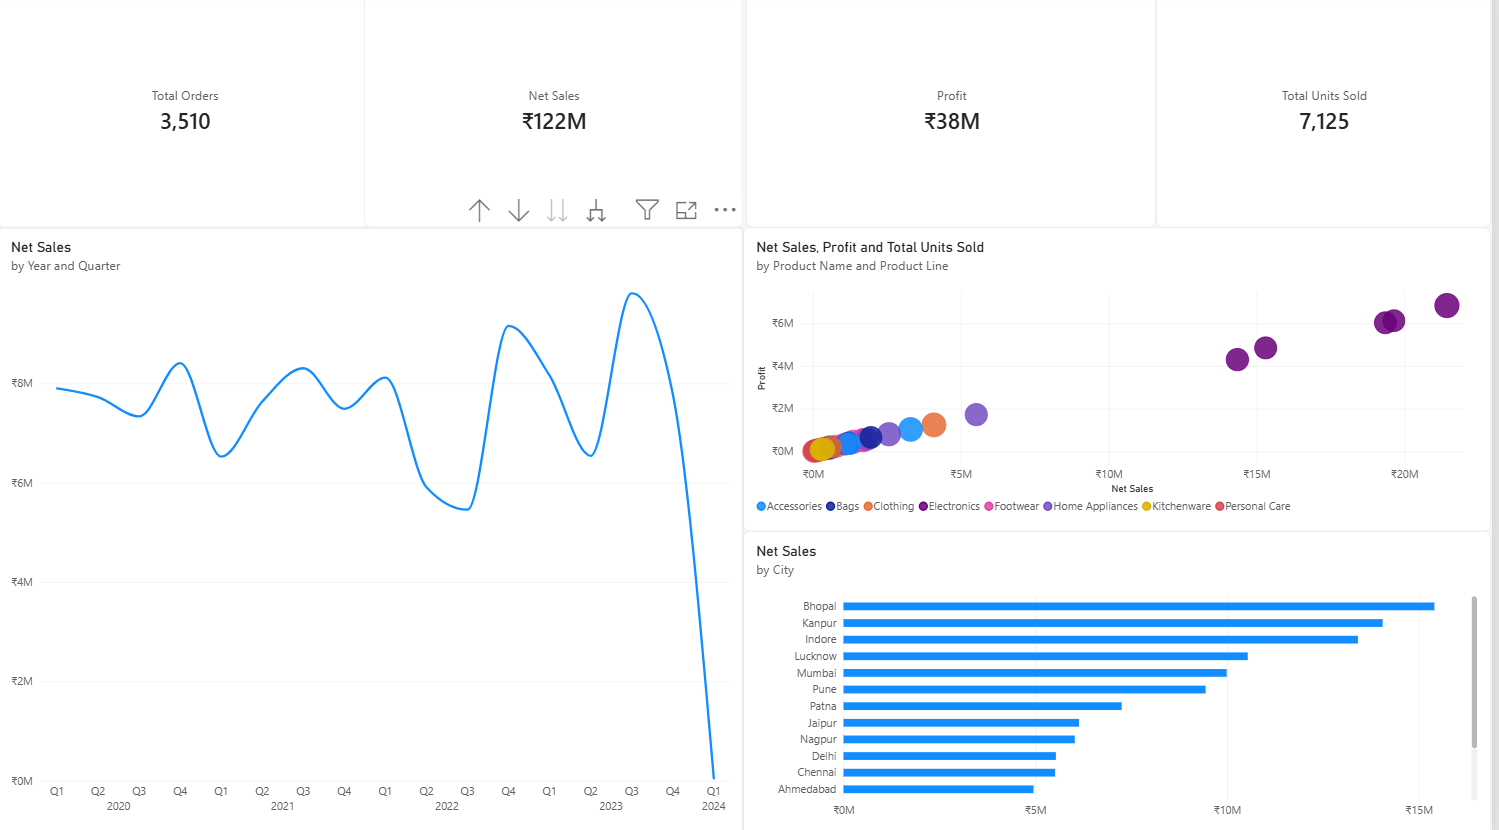

The dashboard page shown, as its layout file describes it:
{"tool":"powerbi","page":{"name":"Executive Overview","canvas":[1920,1080],"ordinal":0},"visuals":[{"type":"cardVisual","fields":{"Data":["_Measures.Total Orders"]},"box":[0,0,479.2,300.8],"z":3},{"type":"cardVisual","fields":{"Data":["_Measures.Total Units Sold"]},"box":[1488.6,0,430.8,300.8],"z":4},{"type":"cardVisual","fields":{"Data":["_Measures.Net Sales"]},"box":[471.5,0,486.8,300.8],"z":5},{"type":"cardVisual","fields":{"Data":["_Measures.Profit"]},"box":[960.9,0,527.6,300.8],"z":6},{"type":"lineChart","fields":{"Category":["DimDate.Year","DimDate.Quarter","DimDate.Month","DimDate.Day"],"Y":["_Measures.Net Sales"]},"box":[0,300.8,958.4,780],"z":7},{"type":"scatterChart","fields":{"Category":["Dim Product.Product Name"],"Series":["Dim Product.Product Line"],"Size":["_Measures.Total Units Sold"],"X":["_Measures.Net Sales"],"Y":["_Measures.Profit"]},"box":[958.4,300.8,960.9,390],"z":8},{"type":"clusteredBarChart","fields":{"Category":["Dim Customers.City"],"Y":["_Measures.Net Sales"]},"box":[958.4,690.8,960.9,390],"z":9}]}

Visuals, with their boxes on the page's 1920x1080 design canvas (x1, y1, x2, y2). These are canvas units, not pixel positions in the 1499x830 screenshot, which may show the page scaled, cropped or inside an application window:
cardVisual - _Measures.Total Orders: left=0, top=0, right=479, bottom=301
cardVisual - _Measures.Total Units Sold: left=1489, top=0, right=1919, bottom=301
cardVisual - _Measures.Net Sales: left=472, top=0, right=958, bottom=301
cardVisual - _Measures.Profit: left=961, top=0, right=1488, bottom=301
lineChart - DimDate.Year x DimDate.Quarter: left=0, top=301, right=958, bottom=1081
scatterChart - Dim Product.Product Name x Dim Product.Product Line: left=958, top=301, right=1919, bottom=691
clusteredBarChart - Dim Customers.City x _Measures.Net Sales: left=958, top=691, right=1919, bottom=1081
